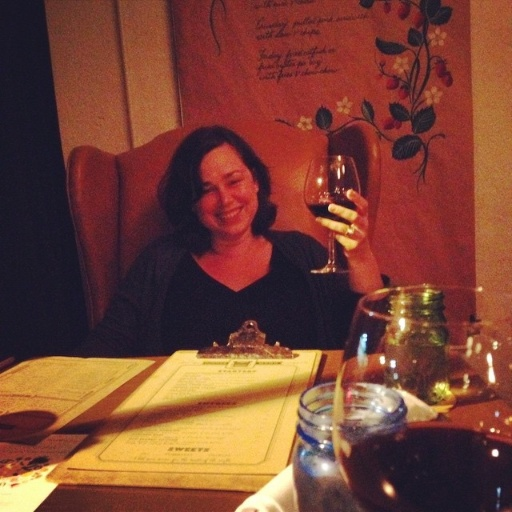hand: (325, 184, 382, 256)
